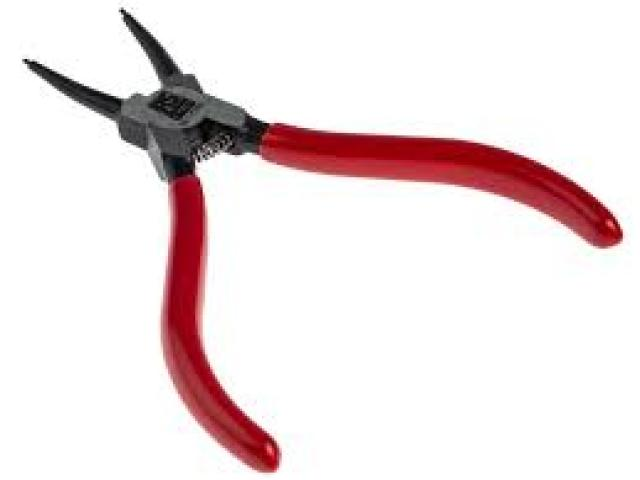Needle-nose pliers: (25, 9, 622, 471)
